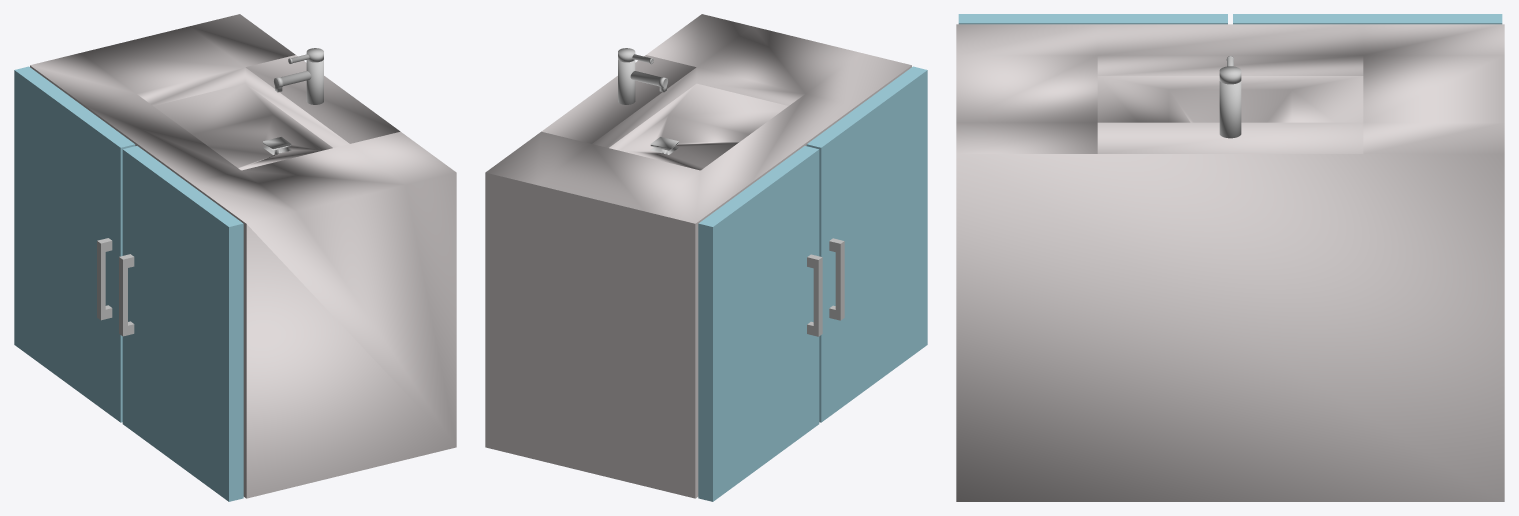
The model's file is Sink_Counter - NoParenting.fbx.
The picture shows the model from 3 angles, left to right: view 1: azimuth 30°, elevation 25°; view 2: azimuth 150°, elevation 25°; view 3: azimuth 270°, elevation 25°; orthographic projection. The views are drawn at different scales.
Visible parts, largest first — view 1: Sink_Counter, Right_Door - Sink_Counter, Left_Door - Sink_Counter; view 2: Sink_Counter, Left_Door - Sink_Counter, Right_Door - Sink_Counter; view 3: Sink_Counter, Left_Door - Sink_Counter, Right_Door - Sink_Counter.
Part boxes in pixels (x1,y1,x2,y2): Sink_Counter: (30,14,456,498); Right_Door - Sink_Counter: (119,146,243,501); Left_Door - Sink_Counter: (14,66,135,422); Sink_Counter: (485,14,911,498); Left_Door - Sink_Counter: (698,146,822,501); Right_Door - Sink_Counter: (806,66,927,422); Sink_Counter: (956,24,1504,501); Left_Door - Sink_Counter: (1233,14,1502,24); Right_Door - Sink_Counter: (958,14,1227,24).
Bounding box in the file's own units: 0.6347 × 0.8262 × 1.
